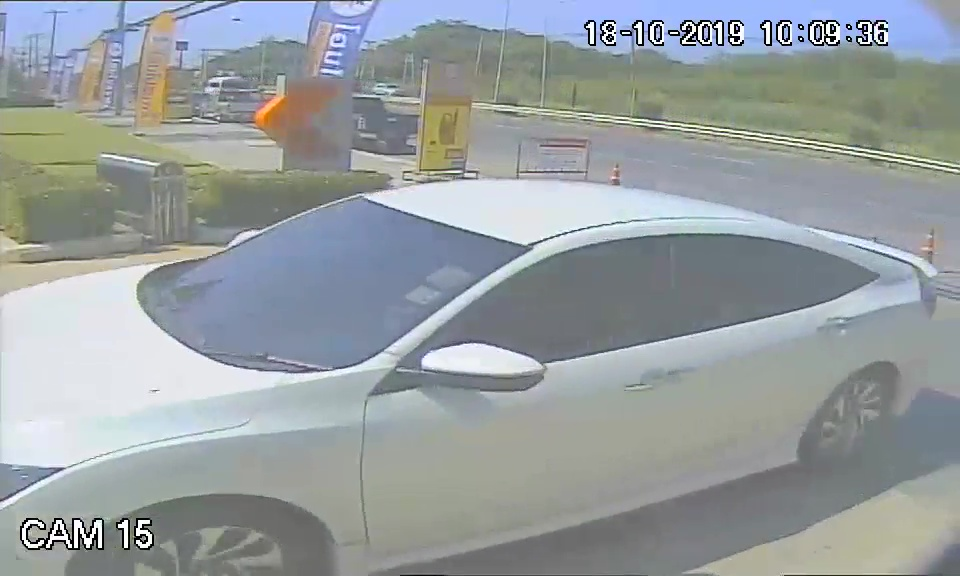sedan: (13, 172, 942, 551)
